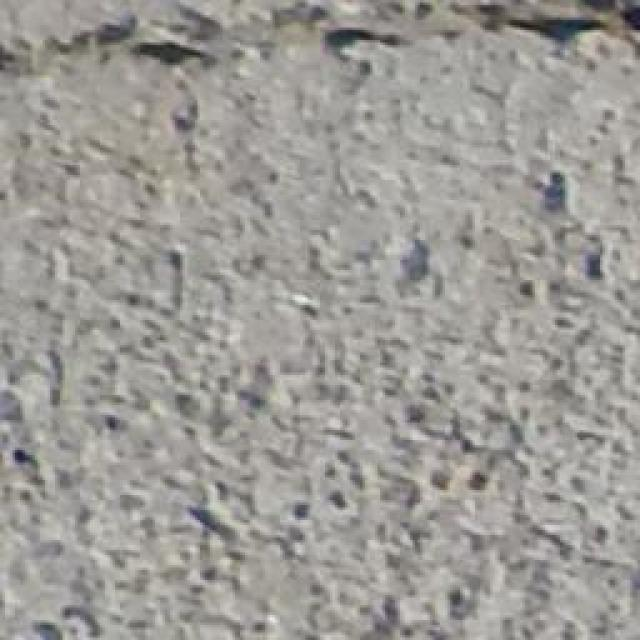concrete-crack: (0, 0, 639, 78)
